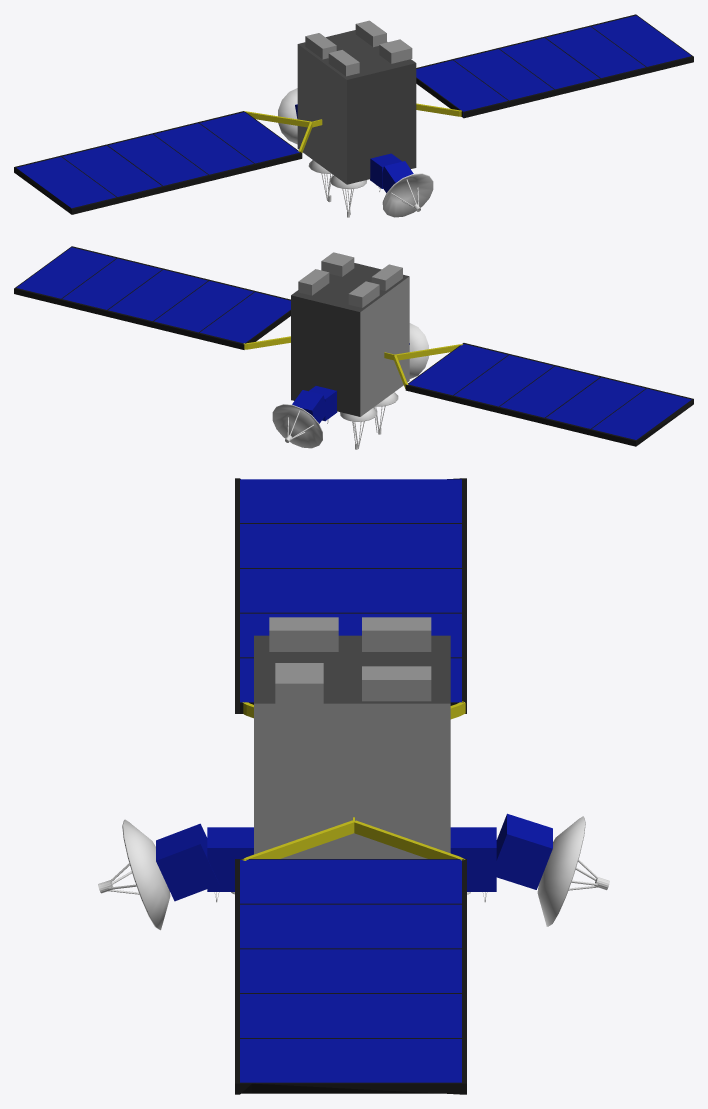
File: aehf.obj
3 views of the same model, one above another, from view 1: azimuth 30°, elevation 25°; view 2: azimuth 150°, elevation 25°; view 3: azimuth 270°, elevation 25° (orthographic). The views are drawn at different scales.
Parts seen in each view (by area): view 1: Cube.013, Cube.024, Cube.003, Cube.002, Cube.004, Cube.029, Cube.041, Cube.023, Cube.028, Cube.039, Cube.040, Cube.005 (+14 smaller); view 2: Cube.013, Cube.024, Cube.002, Cube.004, Cube.029, Cube.023, Cube.028, Cube.039, Cube.003, Cube.041, Cube.040, Cube.009 (+14 smaller); view 3: Cube.013, Cube.041, Cube.040, Cube.004, Cube.028, Cube.029, Cube.039, Cube.024, Cube.023, Cube.019, Cube.018, Cube.002 (+16 smaller).
Boxes of the visible parts, left/top/right/bottom form: Cube.013: left=297, top=30, right=416, bottom=184; Cube.024: left=546, top=26, right=645, bottom=77; Cube.003: left=200, top=112, right=299, bottom=163; Cube.002: left=154, top=123, right=253, bottom=174; Cube.004: left=108, top=134, right=207, bottom=185; Cube.029: left=16, top=157, right=115, bottom=208; Cube.041: left=454, top=49, right=553, bottom=100; Cube.023: left=592, top=15, right=691, bottom=66; Cube.028: left=62, top=145, right=161, bottom=196; Cube.039: left=500, top=38, right=599, bottom=89; Cube.040: left=416, top=60, right=507, bottom=116; Cube.005: left=70, top=152, right=302, bottom=214; Cube.013: left=291, top=263, right=409, bottom=416; Cube.024: left=62, top=258, right=161, bottom=309; Cube.002: left=454, top=355, right=553, bottom=406; Cube.004: left=500, top=366, right=599, bottom=417; Cube.029: left=592, top=388, right=691, bottom=439; Cube.023: left=16, top=247, right=115, bottom=298; Cube.028: left=546, top=377, right=645, bottom=428; Cube.039: left=108, top=269, right=207, bottom=320; Cube.003: left=408, top=344, right=507, bottom=395; Cube.041: left=154, top=281, right=253, bottom=332; Cube.040: left=200, top=292, right=290, bottom=343; Cube.009: left=405, top=384, right=637, bottom=446; Cube.013: left=254, top=635, right=450, bottom=858; Cube.041: left=240, top=904, right=461, bottom=948; Cube.040: left=240, top=859, right=461, bottom=903; Cube.004: left=240, top=569, right=461, bottom=612; Cube.028: left=240, top=524, right=461, bottom=567; Cube.029: left=240, top=479, right=461, bottom=522; Cube.039: left=240, top=949, right=461, bottom=992; Cube.024: left=240, top=994, right=461, bottom=1037; Cube.023: left=240, top=1039, right=461, bottom=1082; Cube.019: left=496, top=813, right=552, bottom=889; Cube.018: left=156, top=823, right=219, bottom=901; Cube.002: left=240, top=613, right=461, bottom=657.
Bounding box in the file's own units: 2.96 × 0.7381 × 1.06.
